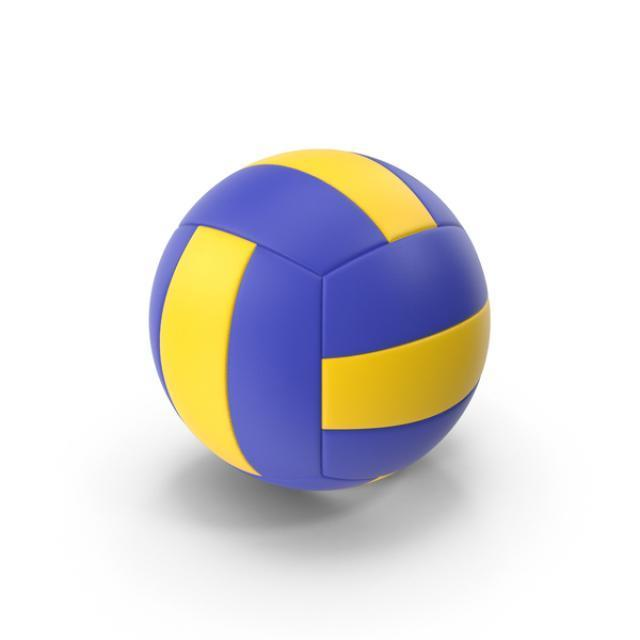volleyball: (148, 147, 490, 492)
